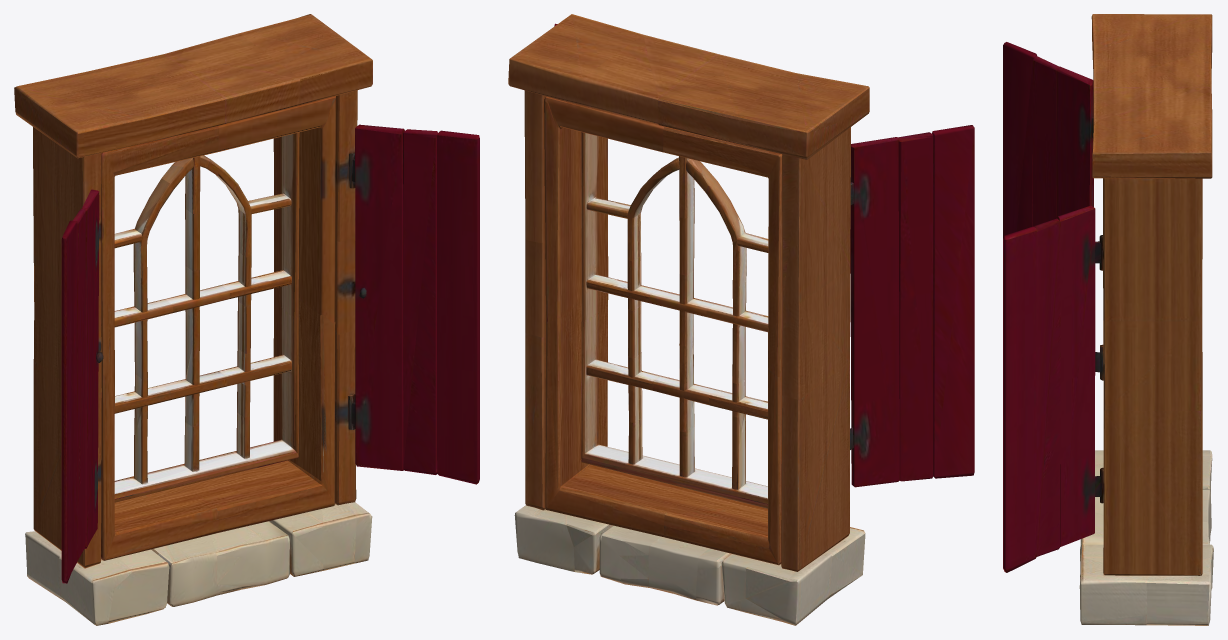
Rendered from window.glb.
3 renders of one model, left to right at view 1: azimuth 30°, elevation 25°; view 2: azimuth 150°, elevation 25°; view 3: azimuth 270°, elevation 25°, orthographic. The views are drawn at different scales.
Size of the model in its own units: 1.1 by 1.25 by 0.5.
1 material, 1 textured.
